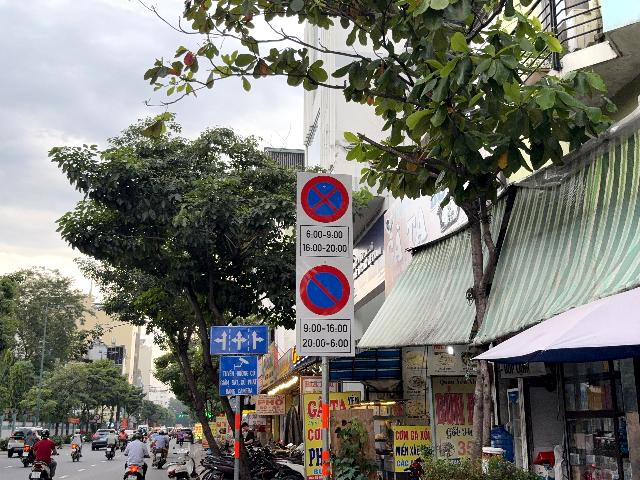cam-do-xe: (300, 265, 350, 316)
cam-dung-va-do-xe: (300, 175, 350, 223)
